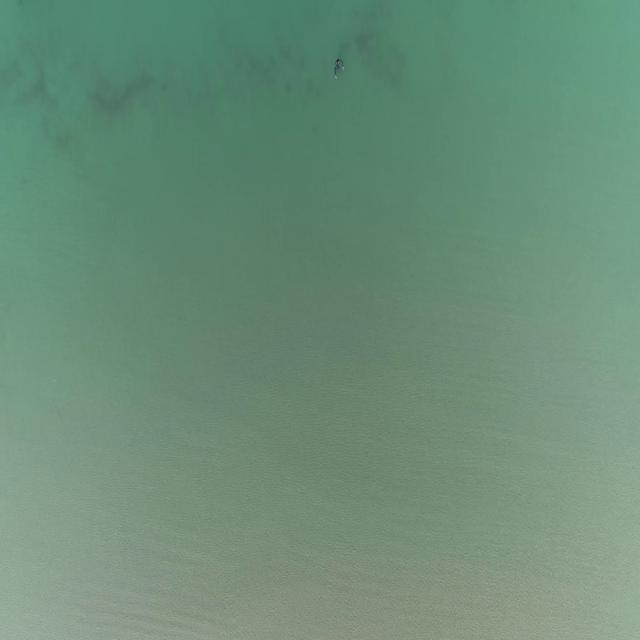person: (333, 58, 346, 78)
